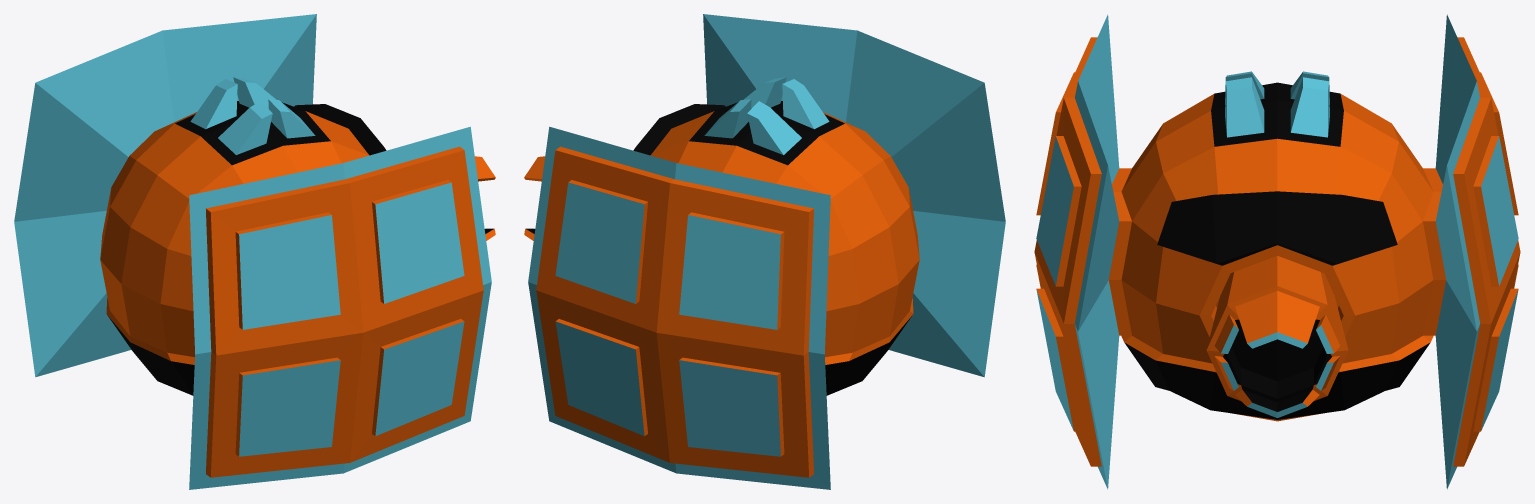
Rendered from MacGloc.glb.
The picture shows the model from 3 angles, left to right: view 1: azimuth 30°, elevation 25°; view 2: azimuth 150°, elevation 25°; view 3: azimuth 270°, elevation 25°; orthographic projection. The views are drawn at different scales.
Visible parts, largest first — view 1: MacGloc; view 2: MacGloc; view 3: MacGloc.
Boxes of the visible parts, x1=… form: MacGloc: x1=14, y1=14, x2=495, y2=489; MacGloc: x1=524, y1=14, x2=1005, y2=489; MacGloc: x1=1034, y1=14, x2=1520, y2=489.
Bounding box in the file's own units: 2.41 × 1.92 × 2.44.
